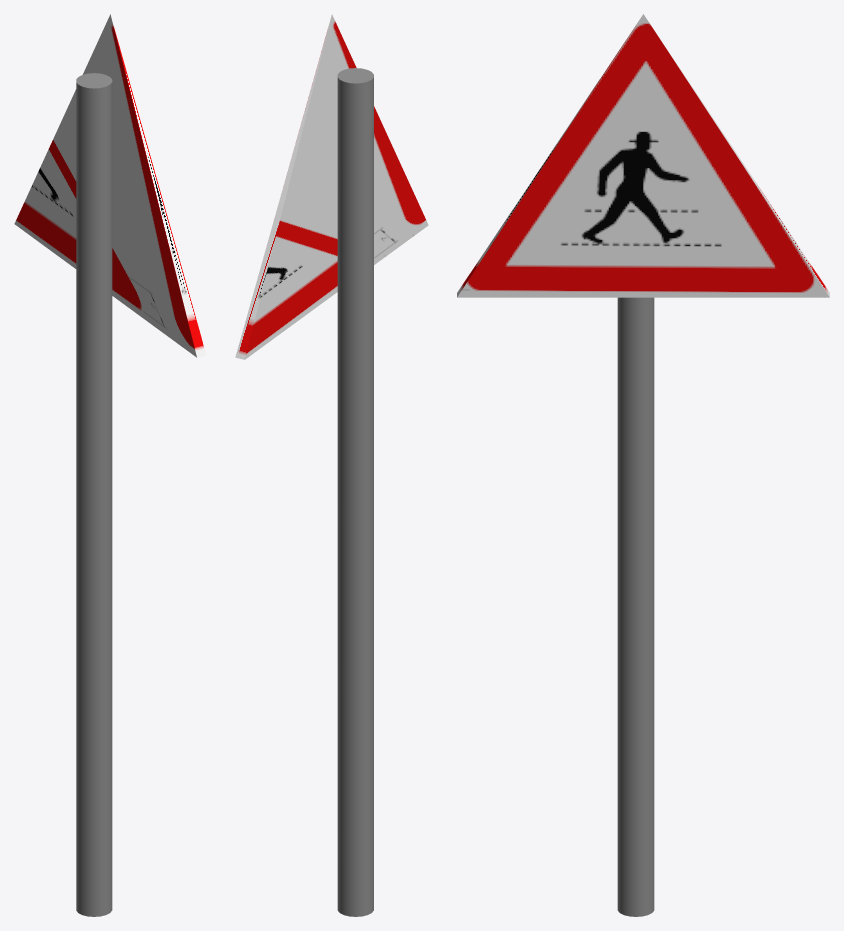
File: 當心行人.FBX
The picture shows the model from 3 angles, left to right: view 1: azimuth 30°, elevation 25°; view 2: azimuth 150°, elevation 25°; view 3: azimuth 270°, elevation 25°; orthographic projection.
Visible parts, largest first — view 1: Cylinder001, Pyramid001; view 2: Cylinder001, Pyramid001; view 3: Pyramid001, Cylinder001.
Boxes of the visible parts, x1,y1,x2,y2 form: Cylinder001: [76, 73, 112, 916]; Pyramid001: [14, 14, 206, 357]; Cylinder001: [337, 68, 373, 916]; Pyramid001: [235, 14, 428, 359]; Pyramid001: [457, 14, 829, 297]; Cylinder001: [617, 297, 654, 916].
Bounding box in the file's own units: 128 × 2679 × 1000.
2 materials, 1 textured.
